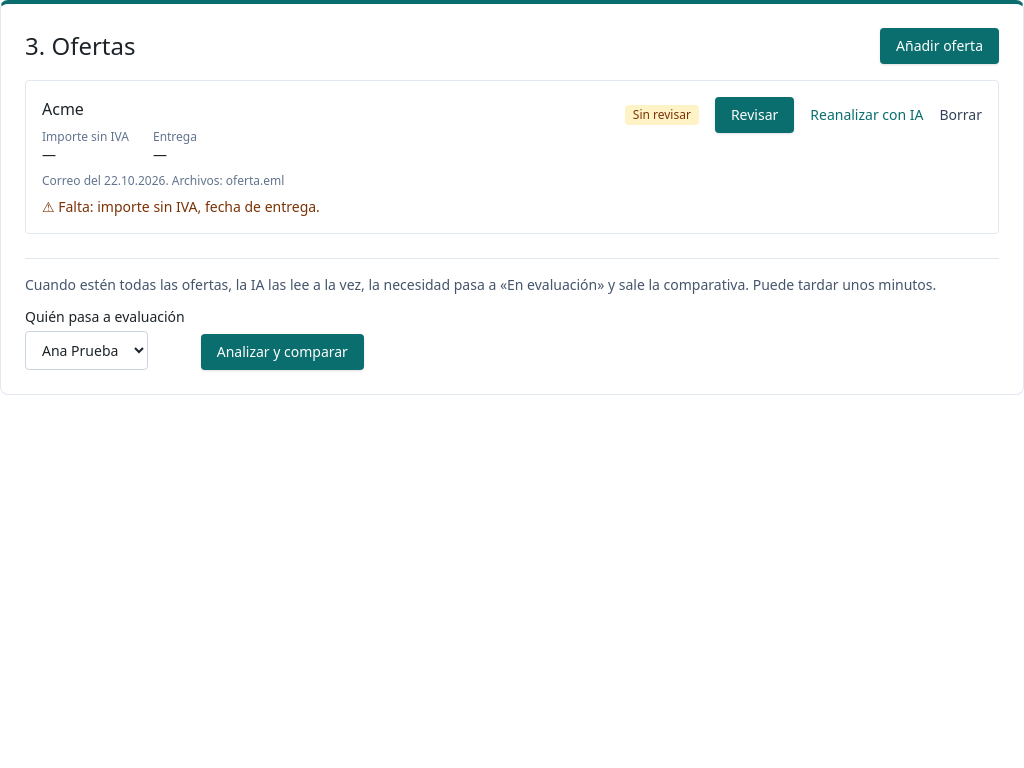
SeccionOfertas › al borrar una oferta desaparecen los avisos de la última subida
Click the button with aria-label "Reanalizar con IA la oferta de Acme" at [867, 115], box [810,105,924,125]
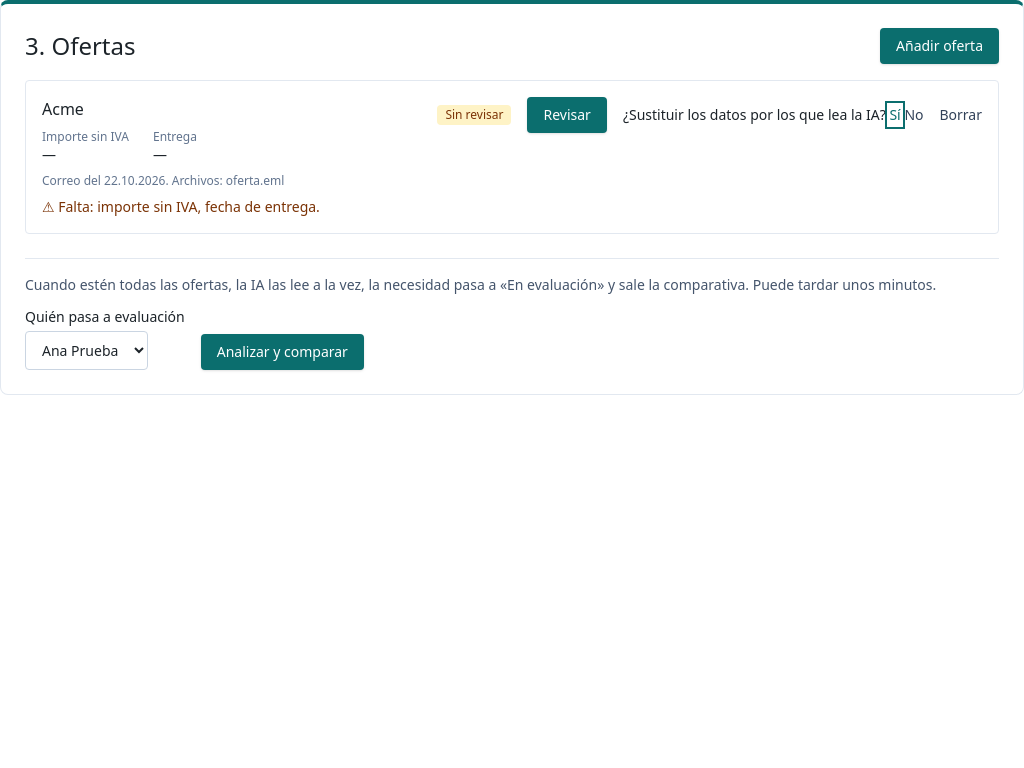
Click the button with aria-label "Sí, reanalizar la oferta de Acme" at [895, 115], box [889,105,901,125]
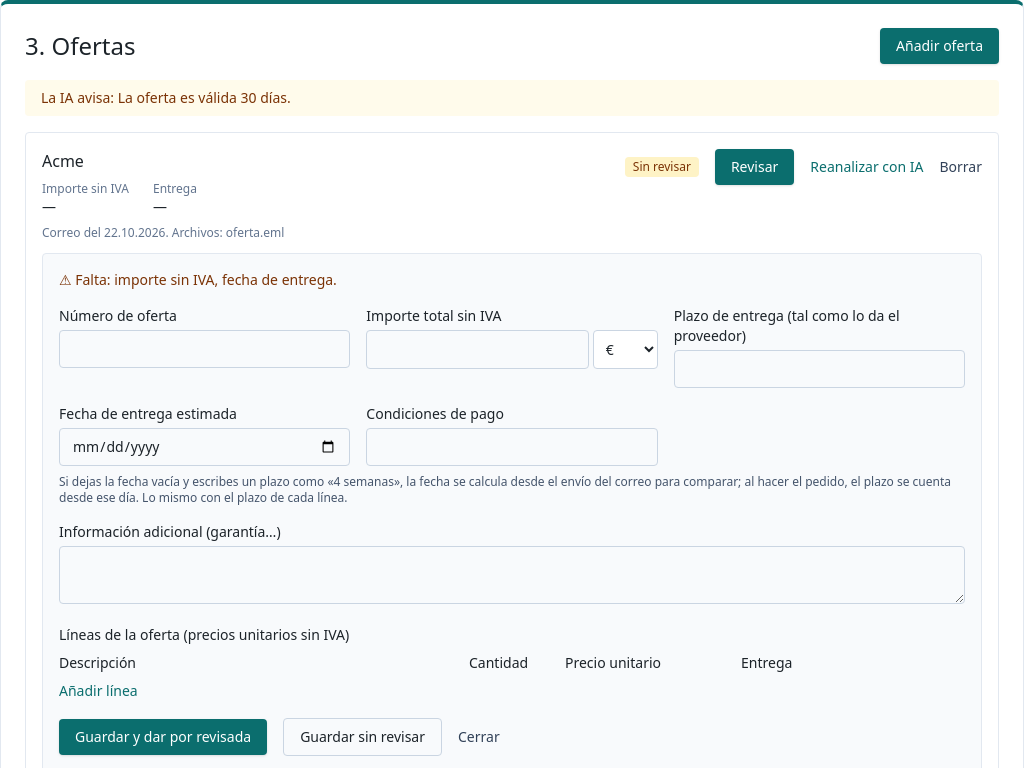
Expected: the message shows "La oferta es válida 30 días.", [41,88,291,107]
Click the button with aria-label "Borrar la oferta de Acme" at [961, 167], box [940,157,982,177]
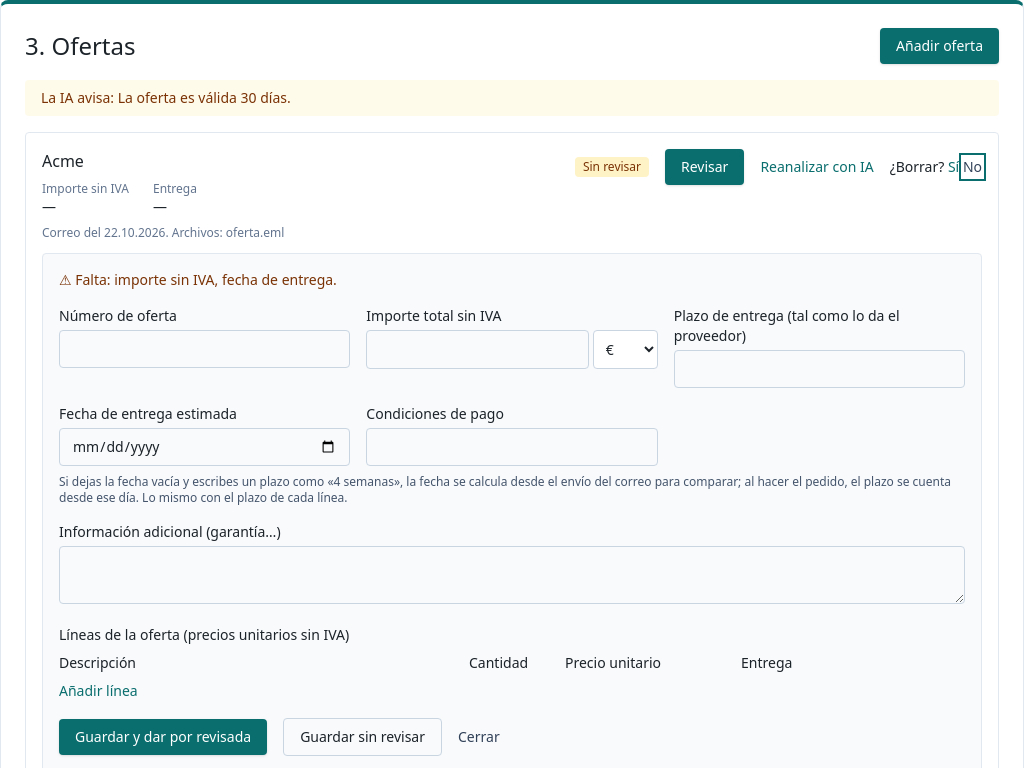
Click the button with aria-label "Sí, borrar la oferta de Acme" at [954, 167], box [948,157,959,177]
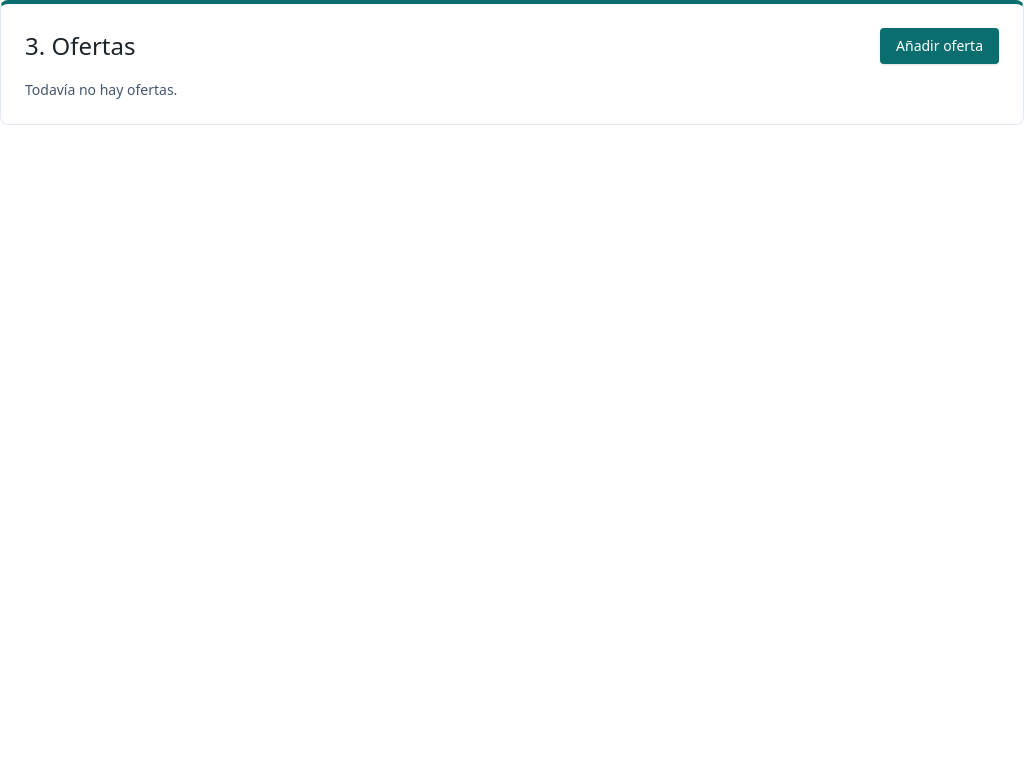
Expected: the text "Todavía no hay ofertas." is shown, [25,80,177,99]
Expected: the message "La IA avisa: La oferta es válida 30 días." is gone
